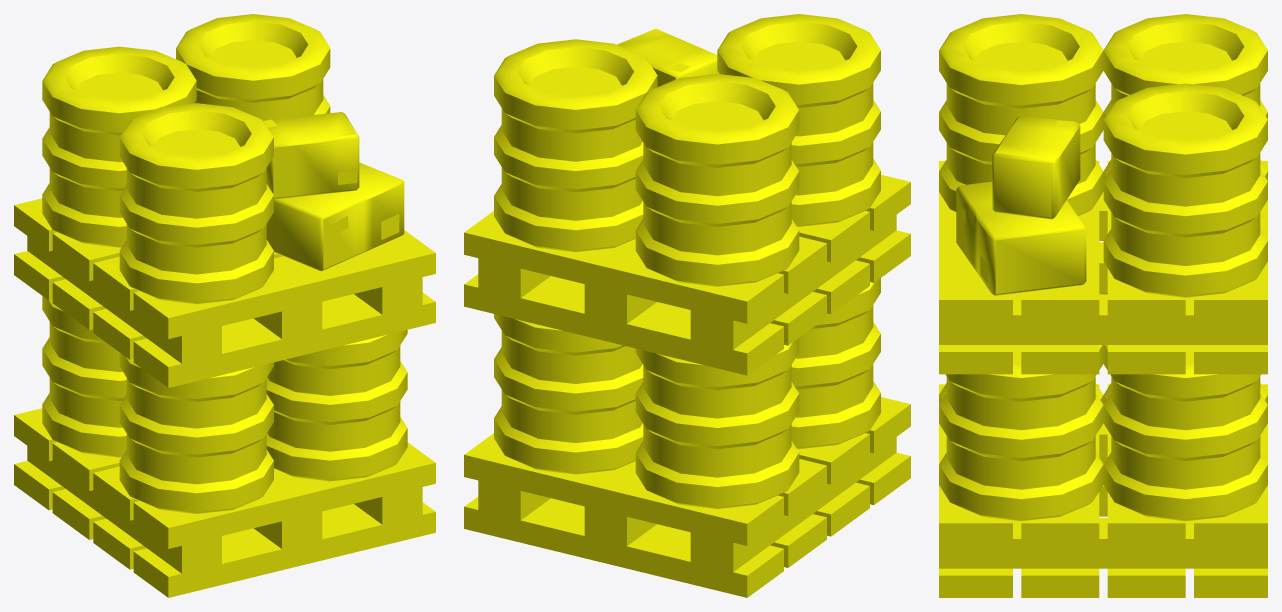
The model's file is kaykit-pallet-small-decorated-b.glb.
3 renders of one model, left to right at view 1: azimuth 30°, elevation 25°; view 2: azimuth 150°, elevation 25°; view 3: azimuth 270°, elevation 25°, orthographic. The views are drawn at different scales.
Parts seen in each view (by area): view 1: Pallet_Small_Decorated_B; view 2: Pallet_Small_Decorated_B; view 3: Pallet_Small_Decorated_B.
Boxes of the visible parts, x1=… form: Pallet_Small_Decorated_B: x1=14, y1=14, x2=435, y2=597; Pallet_Small_Decorated_B: x1=464, y1=14, x2=910, y2=597; Pallet_Small_Decorated_B: x1=939, y1=14, x2=1267, y2=597.
Bounding box in the file's own units: 2 × 3 × 2.
